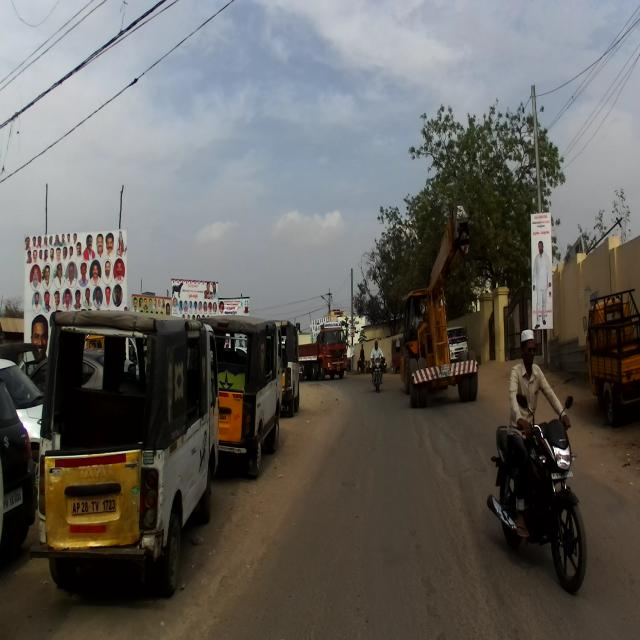car ahead at: (38, 307, 220, 582), (227, 324, 286, 464)
motorcycle ahead at: (489, 398, 588, 594)
truck ahead at: (397, 210, 481, 405)
